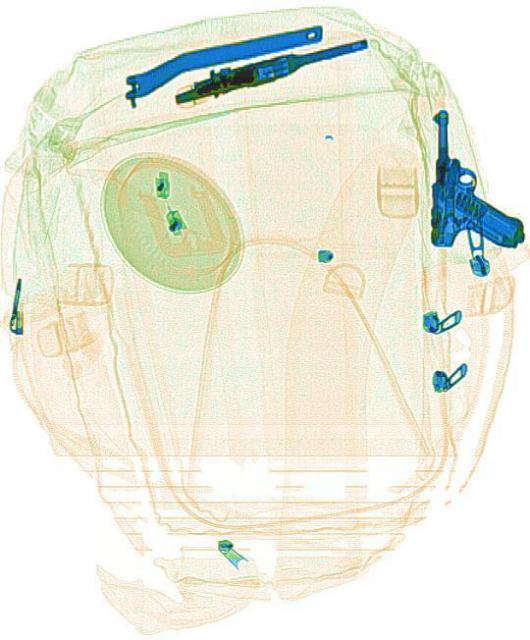Gun: (168, 29, 366, 106), (425, 106, 524, 250)
